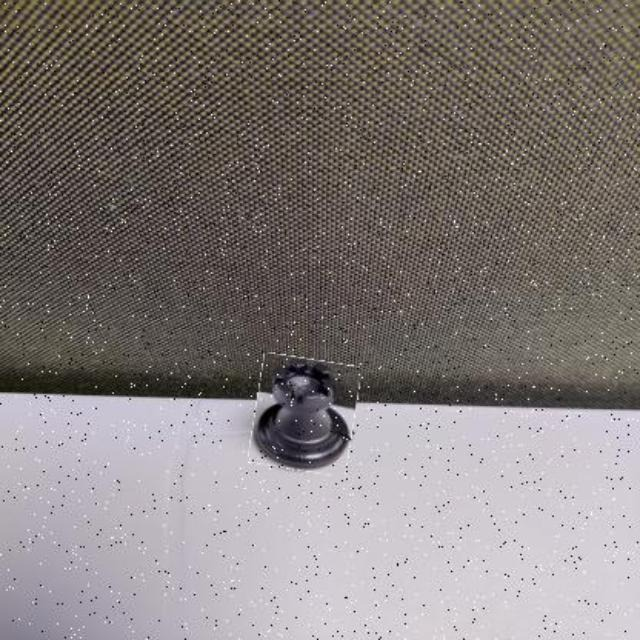black-rook: (252, 356, 358, 474)
